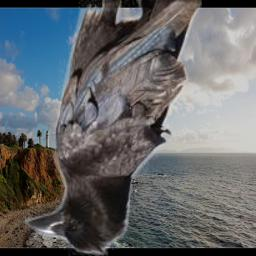Crow: (25, 0, 202, 256)
